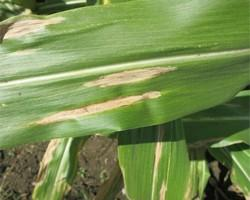Corn leaf blight: (3, 9, 250, 133)
